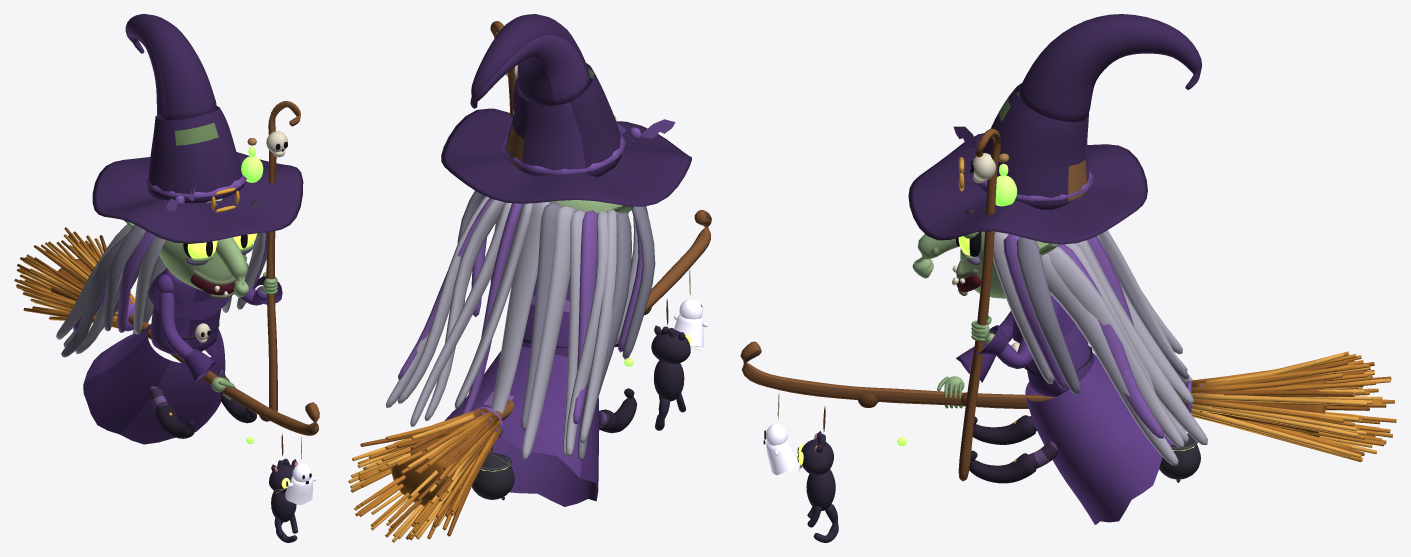
The model's file is witch.glb.
The picture shows the model from 3 angles, left to right: view 1: azimuth 30°, elevation 25°; view 2: azimuth 150°, elevation 25°; view 3: azimuth 270°, elevation 25°; orthographic projection. The views are drawn at different scales.
Parts seen in each view (by area): view 1: body, hem, hair, hat_tip, bristles, cat, charm; view 2: hair, body, hem, bristles, hat_tip, cat, cauldron, charm; view 3: body, hair, hem, bristles, hat_tip, cat, charm, cauldron.
Part boxes in pixels (bbox=[...]): body: bbox=[50, 101, 319, 435]; hem: bbox=[83, 324, 256, 444]; hair: bbox=[56, 224, 267, 357]; hat_tip: bbox=[125, 14, 216, 120]; bristles: bbox=[14, 227, 135, 328]; cat: bbox=[269, 433, 298, 536]; charm: bbox=[285, 436, 316, 505]; hair: bbox=[385, 190, 655, 460]; body: bbox=[391, 21, 711, 506]; hem: bbox=[444, 346, 636, 506]; bristles: bbox=[348, 407, 501, 542]; hat_tip: bbox=[470, 14, 589, 108]; cat: bbox=[651, 298, 701, 412]; cauldron: bbox=[472, 358, 633, 500]; charm: bbox=[674, 268, 708, 347]; body: bbox=[740, 83, 1325, 481]; hair: bbox=[993, 230, 1207, 465]; hem: bbox=[969, 353, 1172, 524]; bristles: bbox=[1191, 351, 1396, 462]; hat_tip: bbox=[1018, 14, 1202, 121]; cat: bbox=[797, 406, 835, 527]; charm: bbox=[763, 391, 797, 475]; cauldron: bbox=[897, 433, 1200, 482].
Bounding box in the file's own units: 1.92 × 4.28 × 4.87.
Materials: 1 (1 with a texture image).
